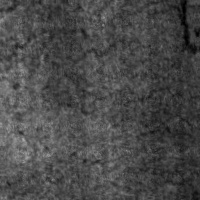crazing: (41, 36, 195, 147)
